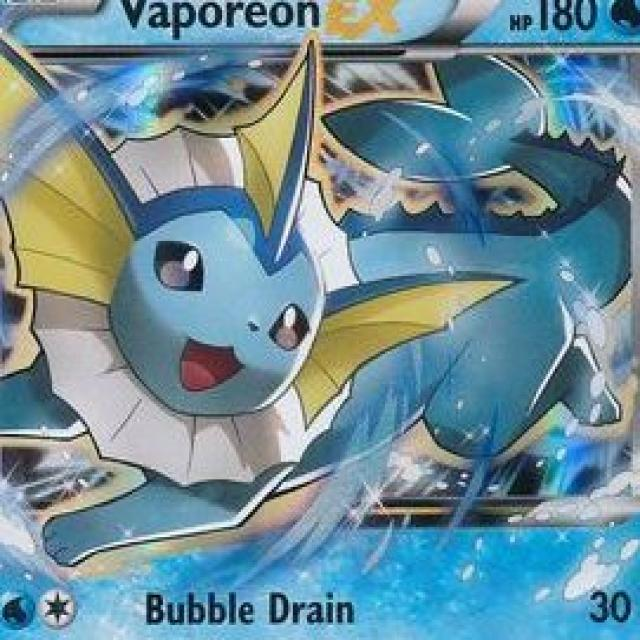Vaporeon: (4, 123, 526, 500)
